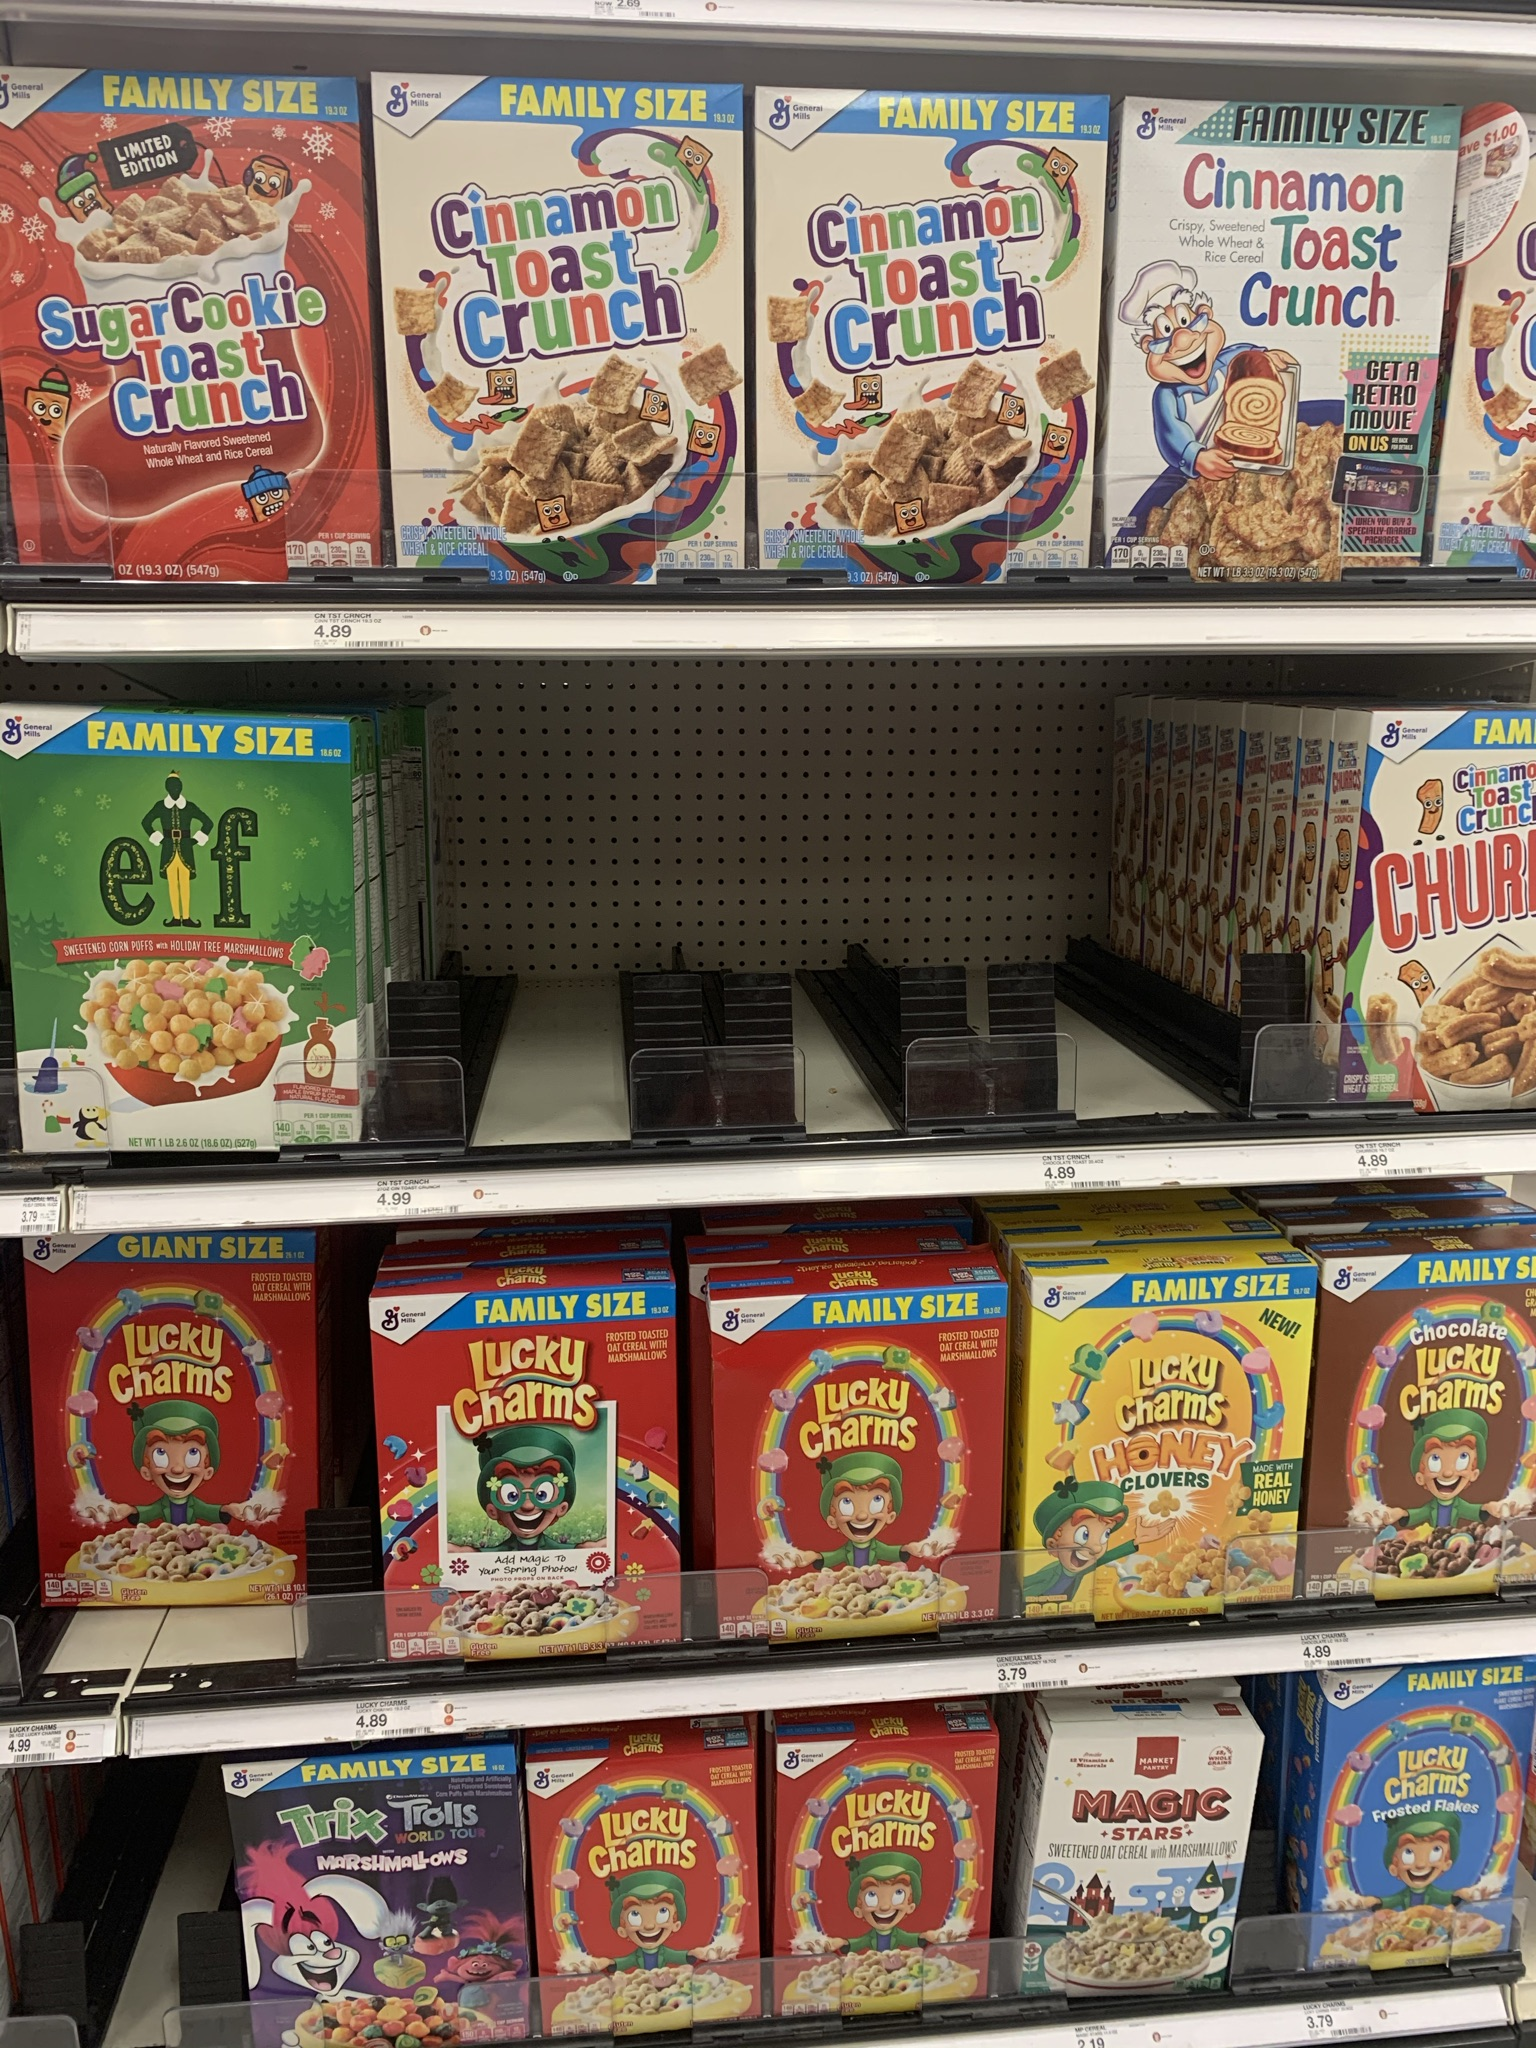Cereal churros: (1376, 711, 1536, 1109)
Cereal cinnamon toast crunch: (402, 84, 737, 571), (762, 97, 1108, 566), (1128, 98, 1433, 571)
Cereal elf: (2, 724, 373, 1214)
Cereal lucky charm: (378, 1309, 703, 1637), (29, 1266, 328, 1616), (720, 1309, 1020, 1616), (1049, 1284, 1304, 1611), (1334, 1269, 1536, 1616), (534, 1766, 774, 2016), (799, 1756, 994, 2014)
Cereal lucky charms: (1317, 1684, 1530, 1980)
Cereal magic: (1066, 1746, 1238, 2000)
Cereal sugar cookie: (3, 81, 378, 543)
Cereal trix: (239, 1784, 529, 2029)
